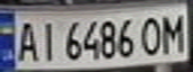4: (78, 17, 100, 61)
6: (60, 17, 84, 61), (115, 16, 139, 60)
8: (96, 17, 121, 61)
A: (12, 18, 42, 63)
I: (36, 18, 60, 62)
M: (157, 10, 190, 53)
O: (139, 14, 166, 57)
